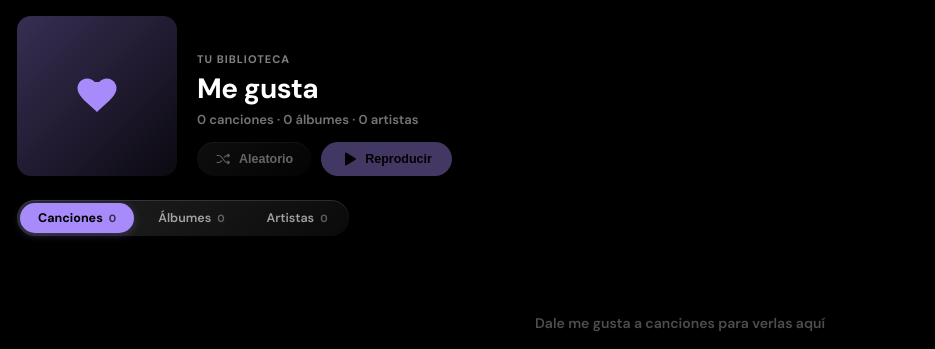
Test case: LikedView › should show empty state in Álbumes tab when none liked
The width and height of the screenshot is (935, 349).
Click the tab "Álbumes 0" at (191, 218), box [140,203,243,233]
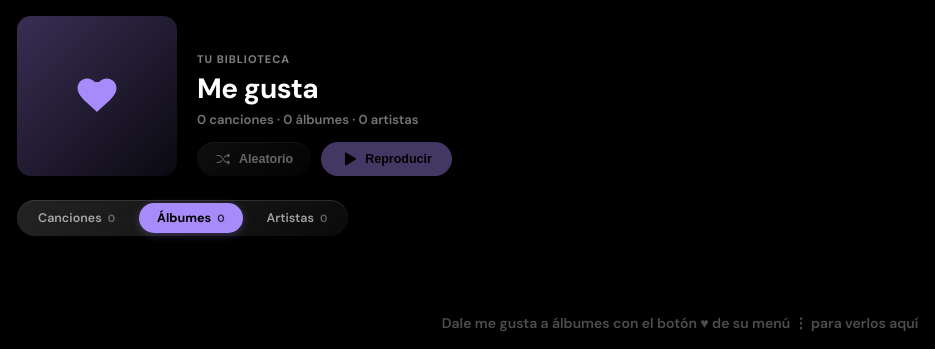
expect the text "Dale me gusta a álbumes" is shown: met, box [442,314,918,332]
